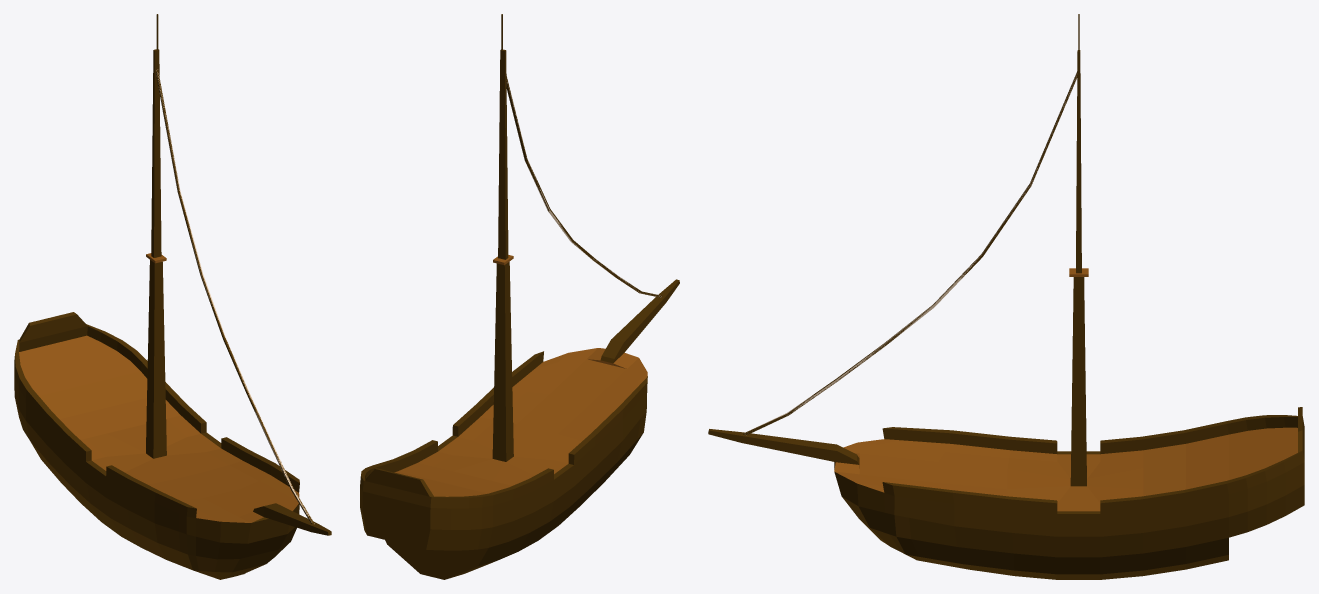
File: BasicShip.fbx
3 renders of one model, left to right at view 1: azimuth 30°, elevation 25°; view 2: azimuth 150°, elevation 25°; view 3: azimuth 270°, elevation 25°, orthographic. The views are drawn at different scales.
Visible parts, largest first — view 1: Cube; view 2: Cube; view 3: Cube.
Part boxes in pixels (<box>): Cube: <box>14,14,331,579</box>; Cube: <box>360,14,679,579</box>; Cube: <box>708,14,1304,579</box>.
Bounding box in the file's own units: 592 × 2464 × 2378.
